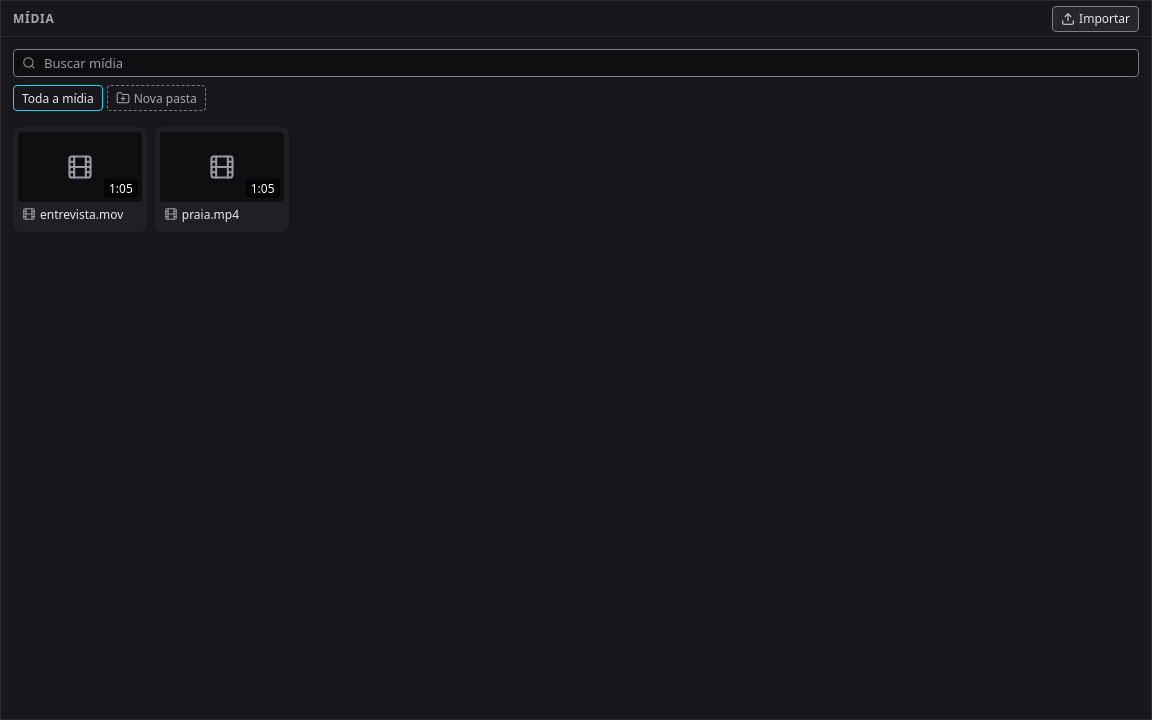
Scenario: MediaPanel › filtra os cards pela busca
Step 1. Type "Entre" into the search field labelled "Buscar mídia" → (587, 63), box [44,50,1130,76]
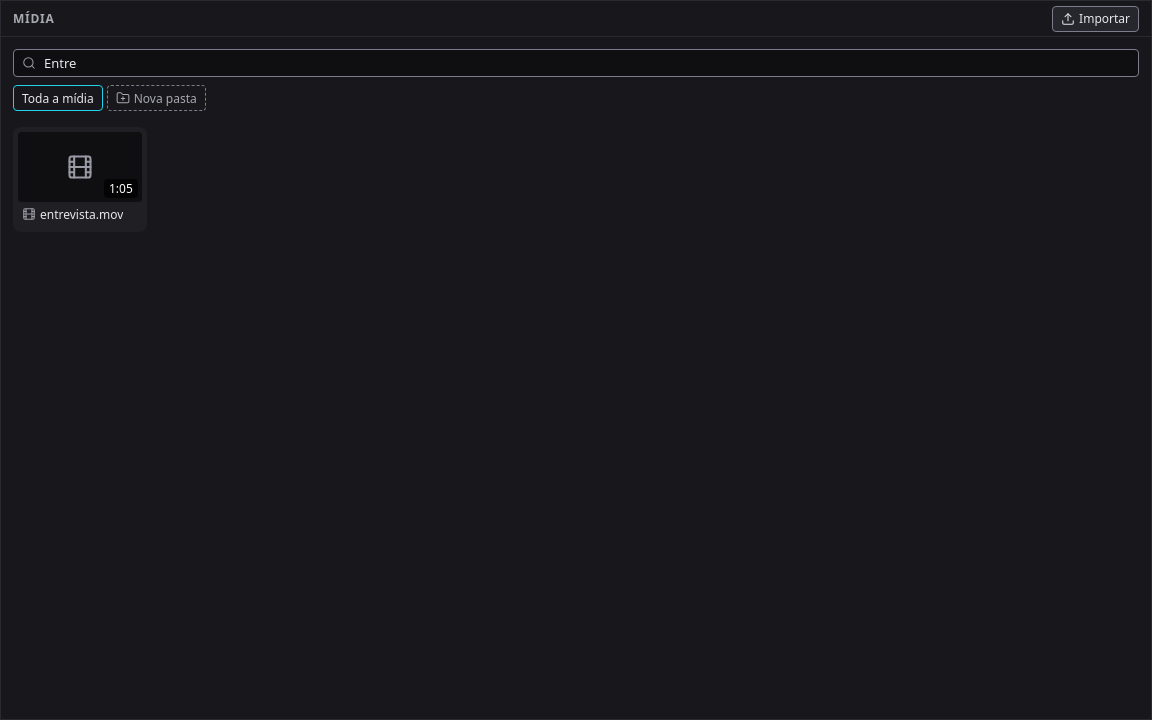
Expected: the text "entrevista.mov" is shown, [40,206,123,223]
Now the text "praia.mp4" is gone
